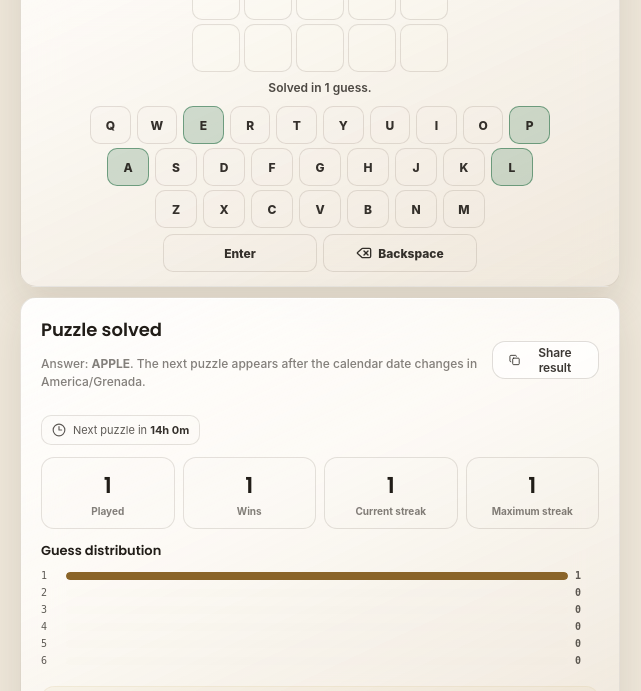
Test: DailyWordPage persistence, sharing, and accessibility › provides a focused manual-copy fallback when clipboard access fails
(page scrolled)
Click the button "Share result": (545, 360) 492,341 -> 599,379
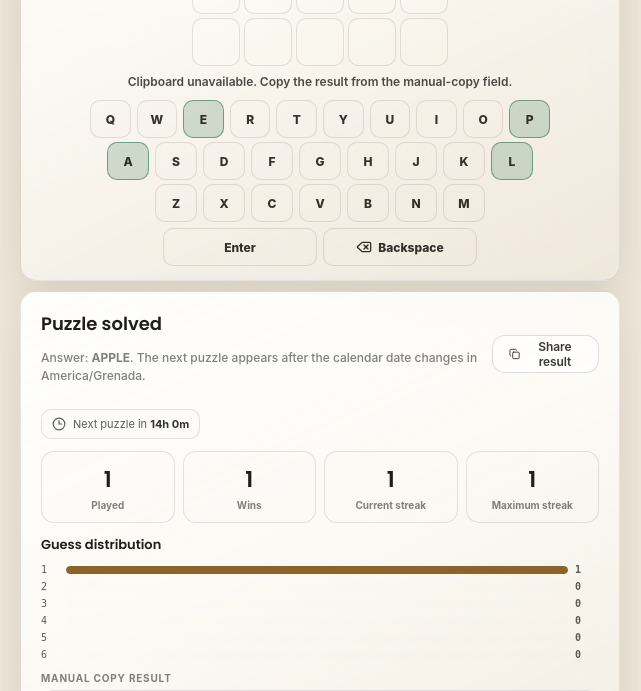
Check: the message shows "Clipboard unavailable", box 128,74 -> 512,89
